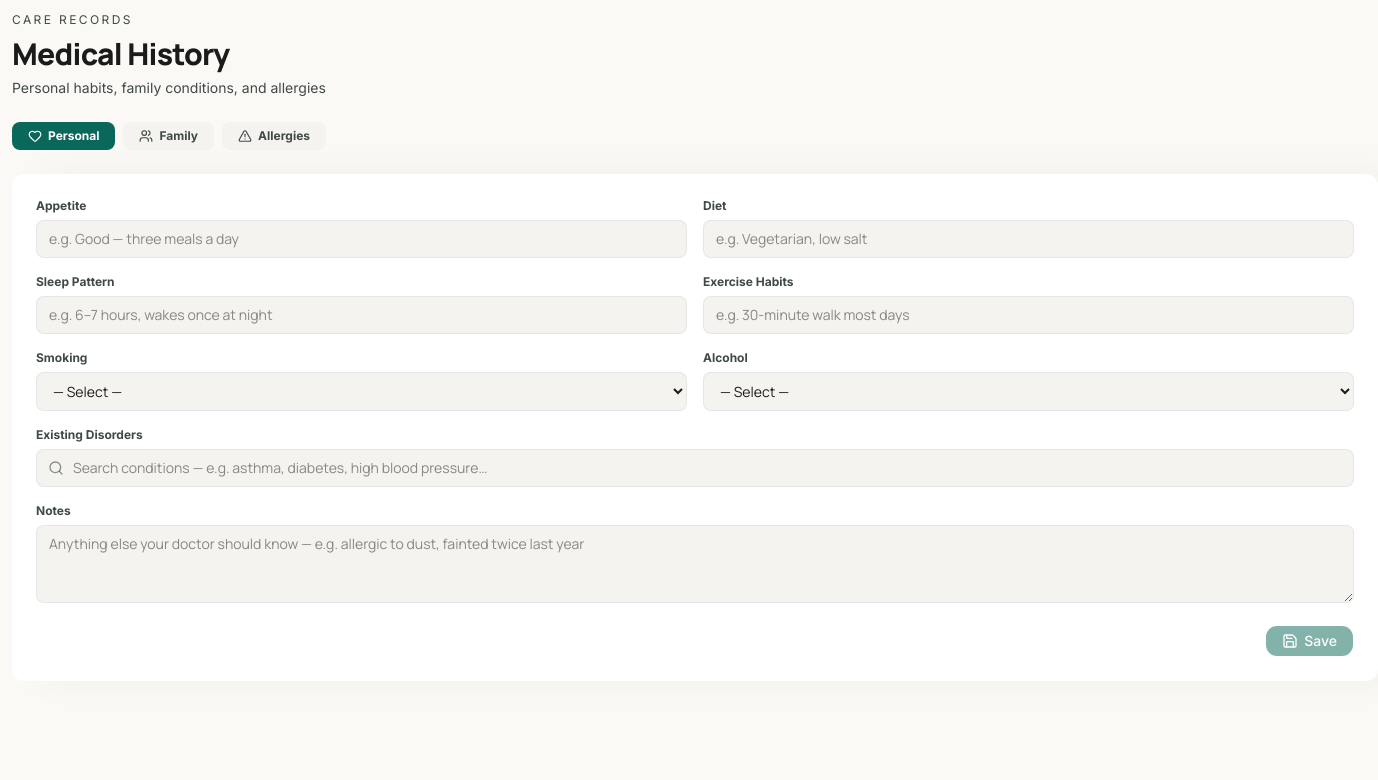
Patient portal — Medical History › keeps focus in a textarea across multiple keystrokes
Click the text box labelled "Notes". click: (695, 564)
box: [36,525,1354,603]
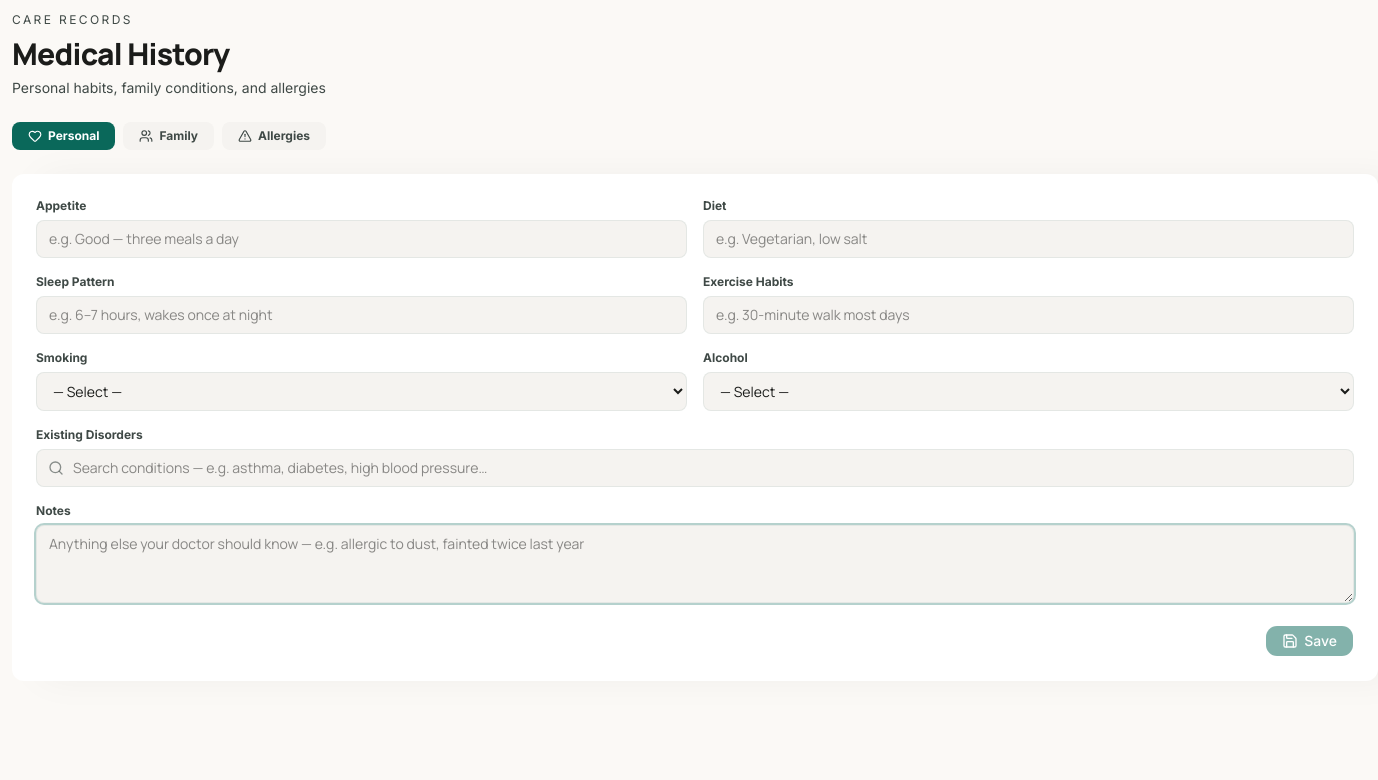
Type keys "no complaints"
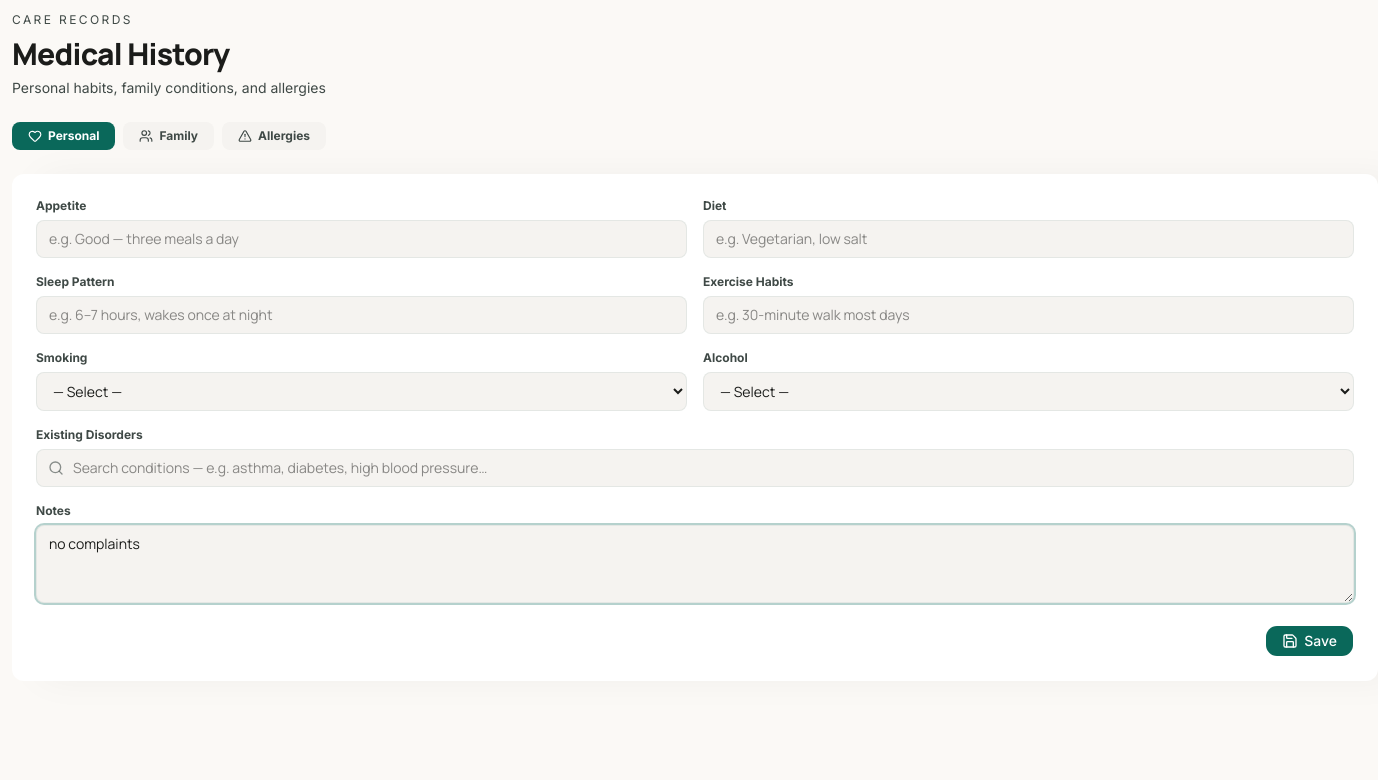
Expected: the text box labelled "Notes" holds "no complaints", [36,525,1354,603]
